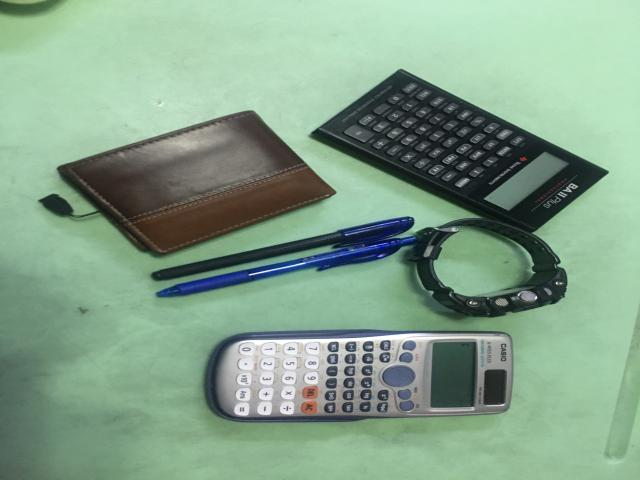Pen: (152, 217, 413, 280), (157, 236, 418, 296)
Wallet: (58, 111, 335, 253)
Watch: (410, 218, 567, 317)
